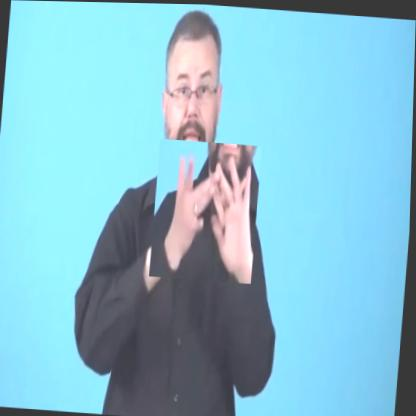Internet: (150, 137, 262, 282)
